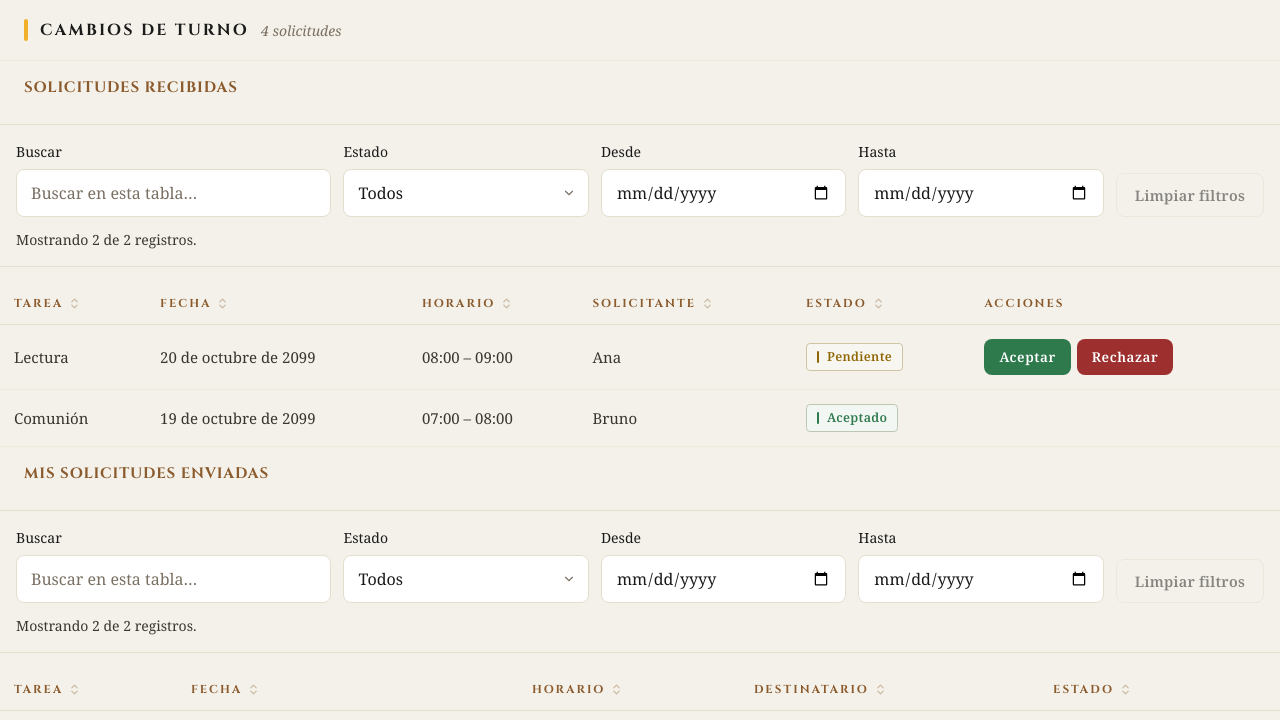
it: integración de cambios de turno › rechaza solicitudes y muestra el error devuelto al responder
The image size is (1280, 720).
Expected: the text "Ana" is shown, [578,324,792,389]
Click the button "Rechazar" at (1125, 357), box [1077,339,1173,375]
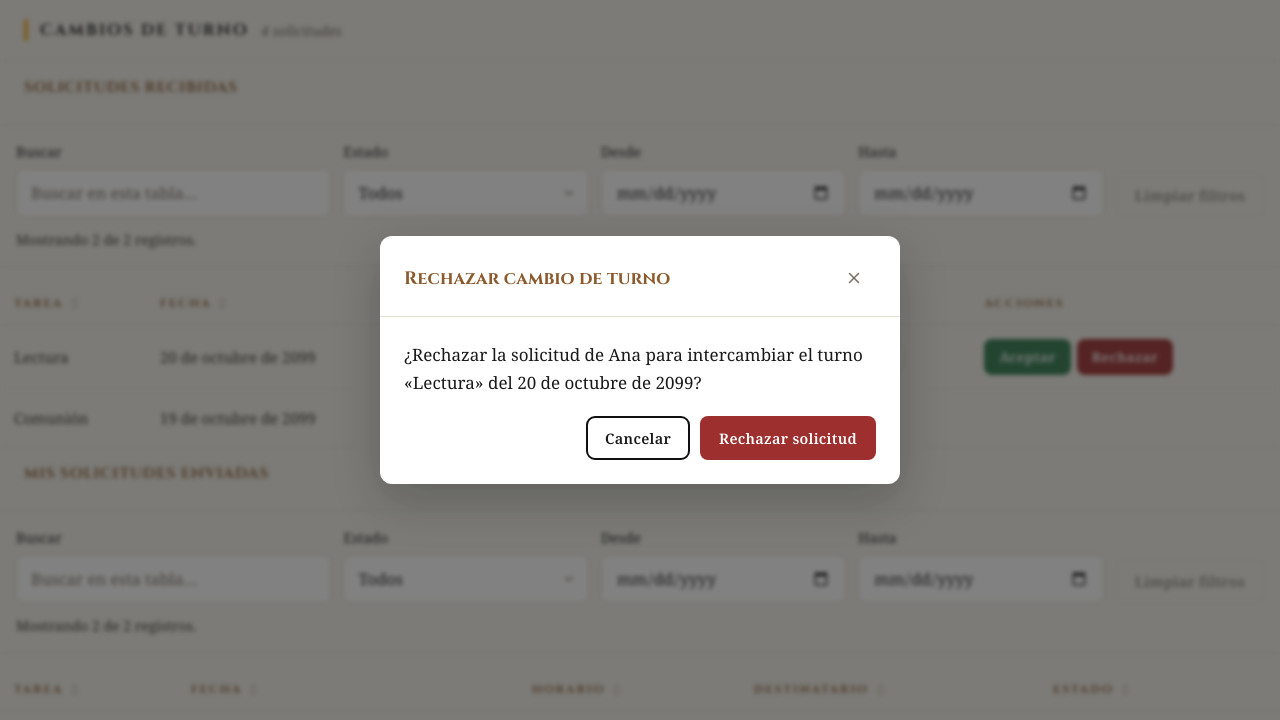
Click the button "Cancelar" at (638, 438), box [586,416,690,460]
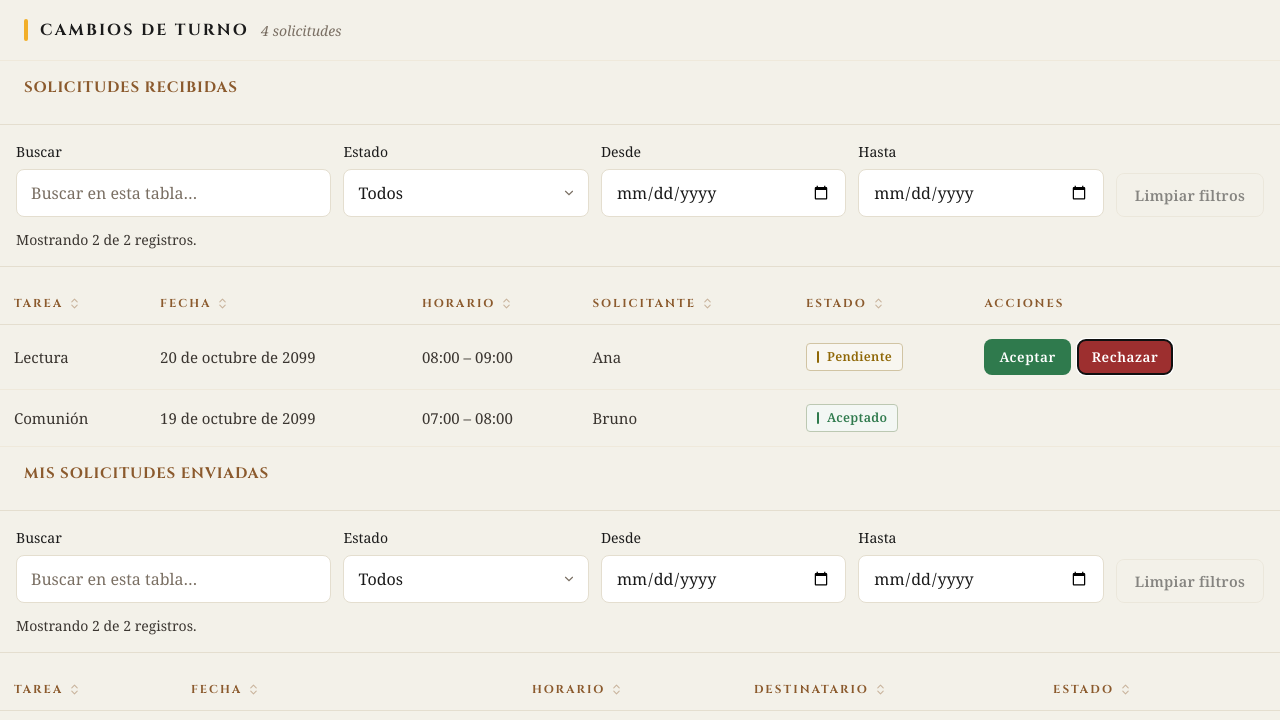
Click the button "Rechazar" at (1125, 357), box [1077,339,1173,375]
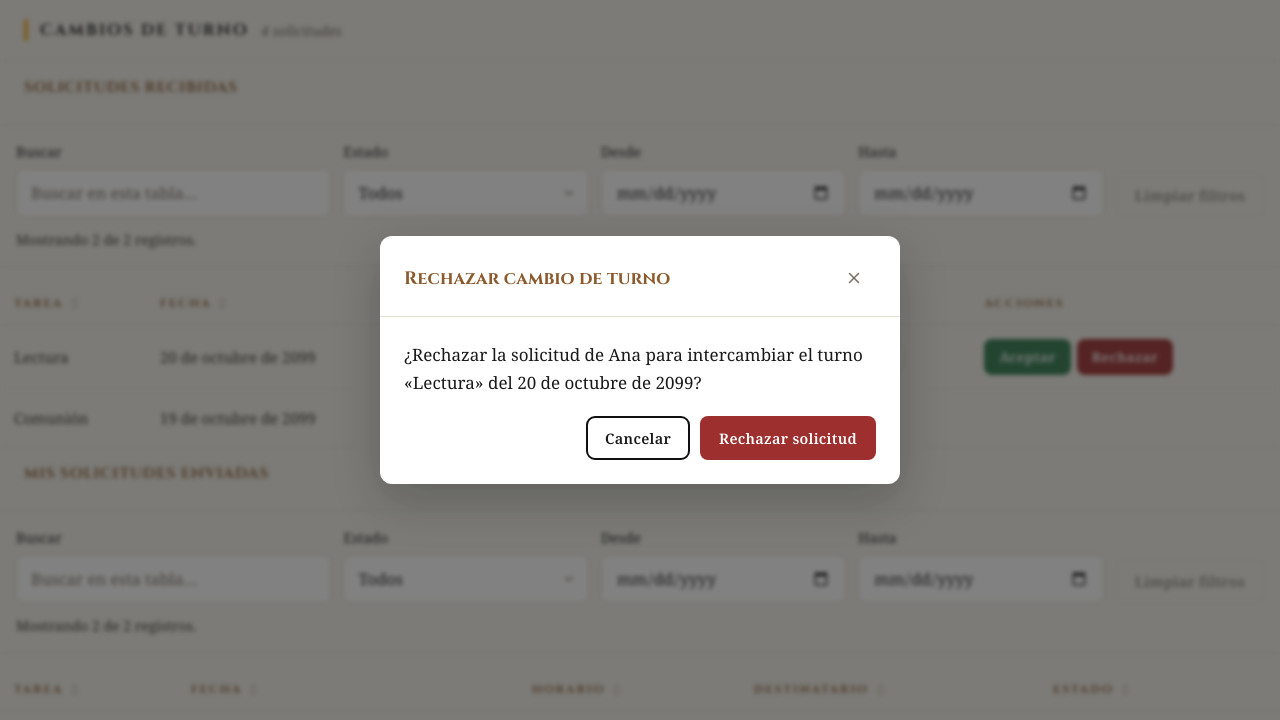
Click the button "Rechazar solicitud" at (788, 438), box [700,416,876,460]
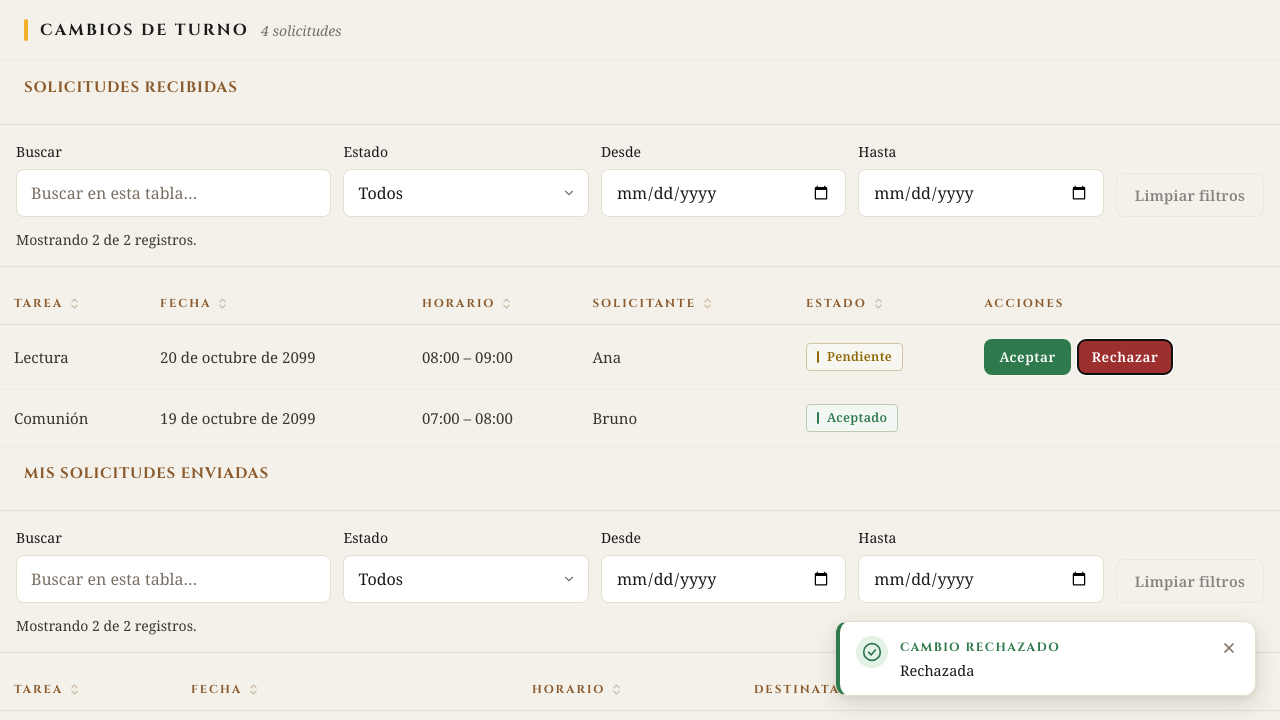
Click the button "Aceptar" at (1028, 357), box [984,339,1071,375]
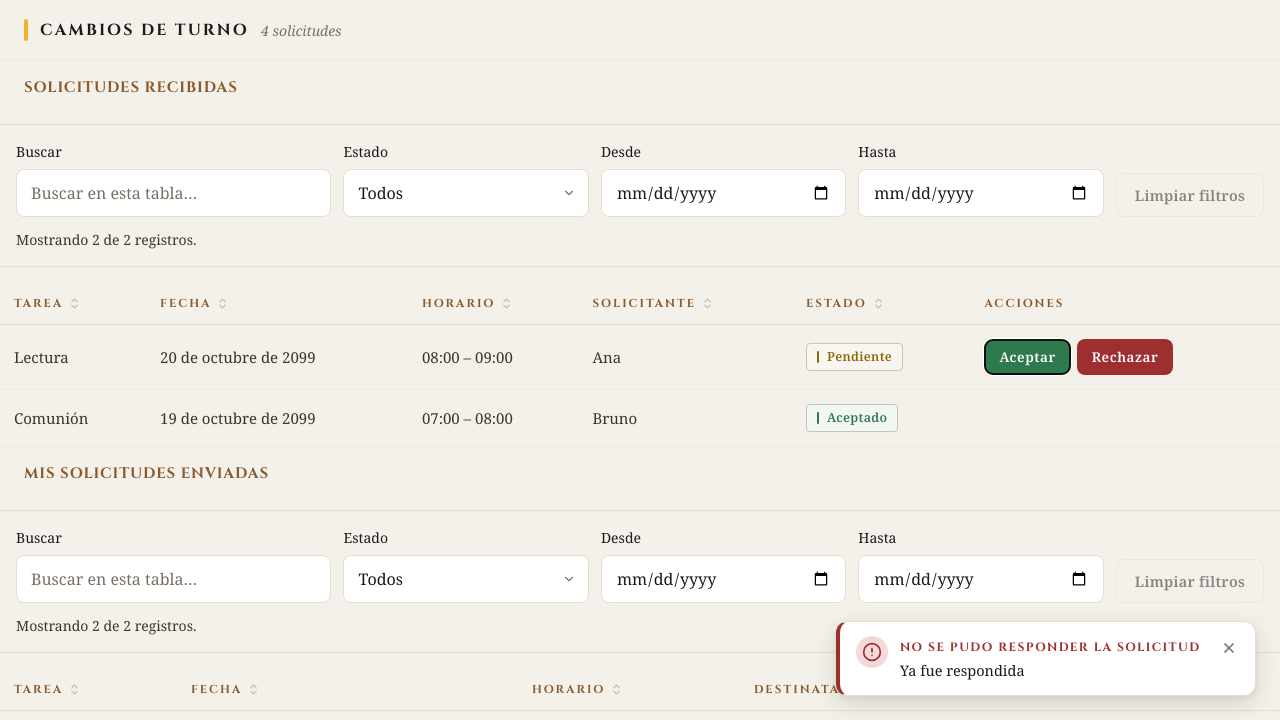
Expected: the message shows "Ya fue respondida", [900,660,1025,680]
